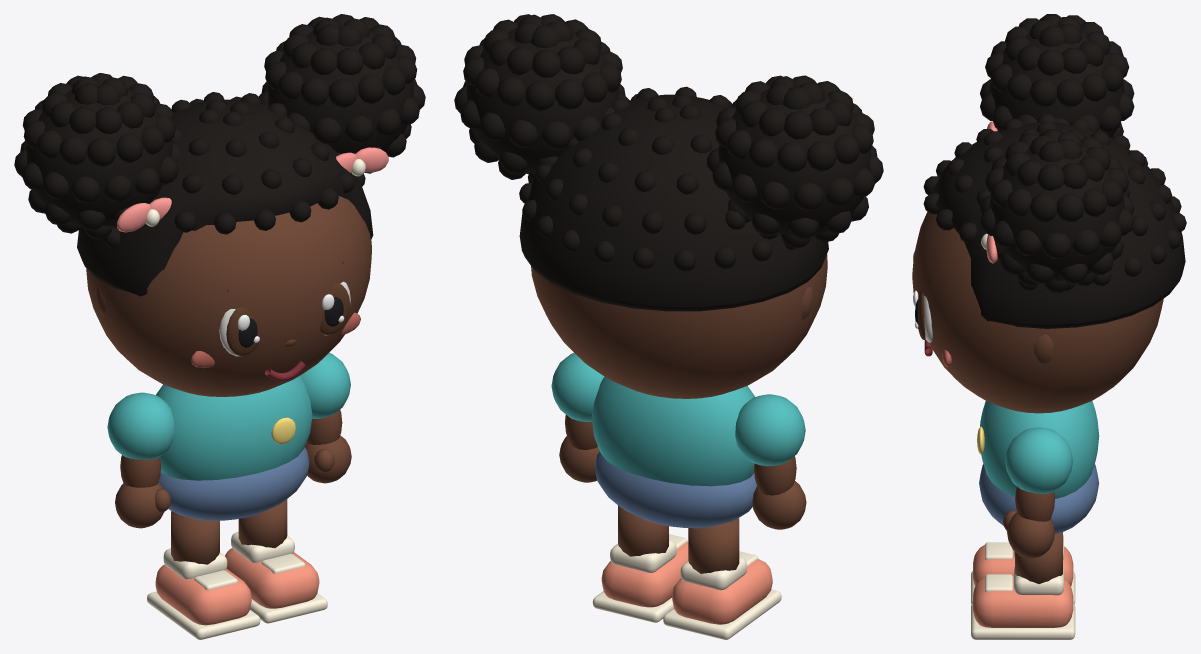
Rendered from chibi-sibling-sample.glb.
The picture shows the model from 3 angles, left to right: view 1: azimuth 30°, elevation 25°; view 2: azimuth 150°, elevation 25°; view 3: azimuth 270°, elevation 25°; orthographic projection. The views are drawn at different scales.
Parts seen in each view (by area): view 1: head-textured black hair, head-deep brown skin, torso-teal shirt, torso-navy shorts, arm-left-teal shirt, leg-left-coral shoes, leg-right-coral shoes, leg-left-cream accents, arm-left-deep brown skin, leg-right-cream accents, arm-right-deep brown skin, arm-right-teal shirt (+5 smaller); view 2: head-textured black hair, head-deep brown skin, torso-teal shirt, torso-navy shorts, arm-left-teal shirt, leg-left-coral shoes, leg-left-cream accents, arm-left-deep brown skin, leg-right-coral shoes, arm-right-teal shirt, leg-right-cream accents, leg-left-deep brown skin (+2 smaller); view 3: head-textured black hair, head-deep brown skin, torso-teal shirt, leg-right-coral shoes, arm-right-teal shirt, arm-right-deep brown skin, leg-right-cream accents, torso-navy shorts, leg-right-deep brown skin, leg-left-coral shoes, leg-left-cream accents.
Part boxes in pixels (x1=…): head-textured black hair: x1=14, y1=14, x2=425, y2=296; head-deep brown skin: x1=86, y1=196, x2=371, y2=396; torso-teal shirt: x1=156, y1=376, x2=312, y2=480; torso-navy shorts: x1=158, y1=447, x2=309, y2=520; arm-left-teal shirt: x1=107, y1=392, x2=174, y2=459; leg-left-coral shoes: x1=155, y1=564, x2=251, y2=625; leg-right-coral shoes: x1=225, y1=548, x2=319, y2=608; leg-left-cream accents: x1=147, y1=548, x2=260, y2=639; arm-left-deep brown skin: x1=115, y1=455, x2=170, y2=528; leg-right-cream accents: x1=231, y1=531, x2=327, y2=623; arm-right-deep brown skin: x1=305, y1=409, x2=351, y2=483; arm-right-teal shirt: x1=300, y1=352, x2=350, y2=418; head-textured black hair: x1=454, y1=14, x2=883, y2=311; head-deep brown skin: x1=531, y1=254, x2=827, y2=398; torso-teal shirt: x1=591, y1=376, x2=754, y2=486; torso-navy shorts: x1=595, y1=451, x2=756, y2=528; arm-left-teal shirt: x1=735, y1=394, x2=805, y2=466; leg-left-coral shoes: x1=672, y1=559, x2=772, y2=624; leg-left-cream accents: x1=663, y1=551, x2=781, y2=639; arm-left-deep brown skin: x1=752, y1=456, x2=806, y2=529; leg-right-coral shoes: x1=601, y1=542, x2=688, y2=607; arm-right-teal shirt: x1=551, y1=353, x2=604, y2=421; leg-right-cream accents: x1=592, y1=534, x2=687, y2=622; leg-left-deep brown skin: x1=688, y1=518, x2=739, y2=585; head-textured black hair: x1=923, y1=14, x2=1186, y2=328; head-deep brown skin: x1=912, y1=211, x2=1163, y2=413; torso-teal shirt: x1=980, y1=401, x2=1099, y2=498; leg-right-coral shoes: x1=973, y1=575, x2=1073, y2=627; arm-right-teal shirt: x1=1005, y1=427, x2=1072, y2=493; arm-right-deep brown skin: x1=1003, y1=486, x2=1054, y2=558; leg-right-cream accents: x1=971, y1=567, x2=1075, y2=639; torso-navy shorts: x1=979, y1=464, x2=1099, y2=534; leg-right-deep brown skin: x1=1015, y1=532, x2=1062, y2=583; leg-left-coral shoes: x1=973, y1=545, x2=1073, y2=586; leg-left-cream accents: x1=971, y1=535, x2=1075, y2=604.
Size of the model in its own units: 2.2 by 2.93 by 1.37.
